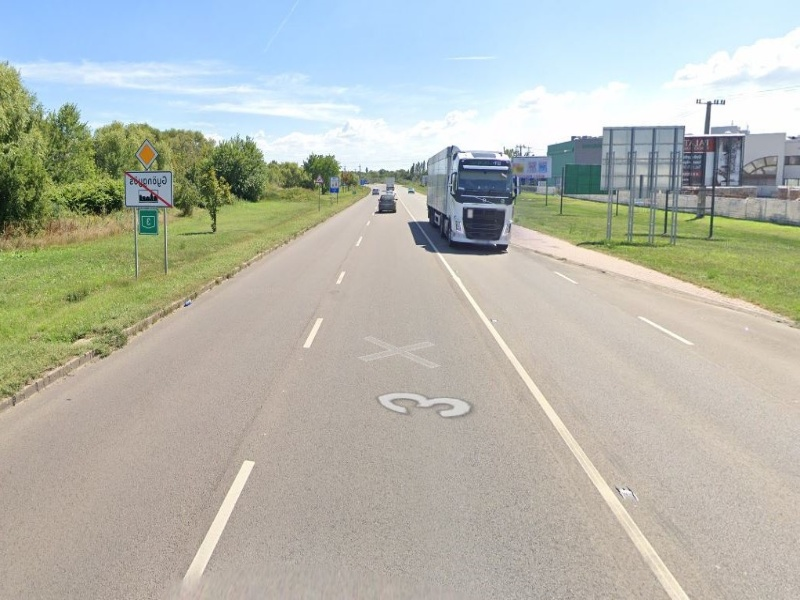fout: (135, 143, 157, 168)
